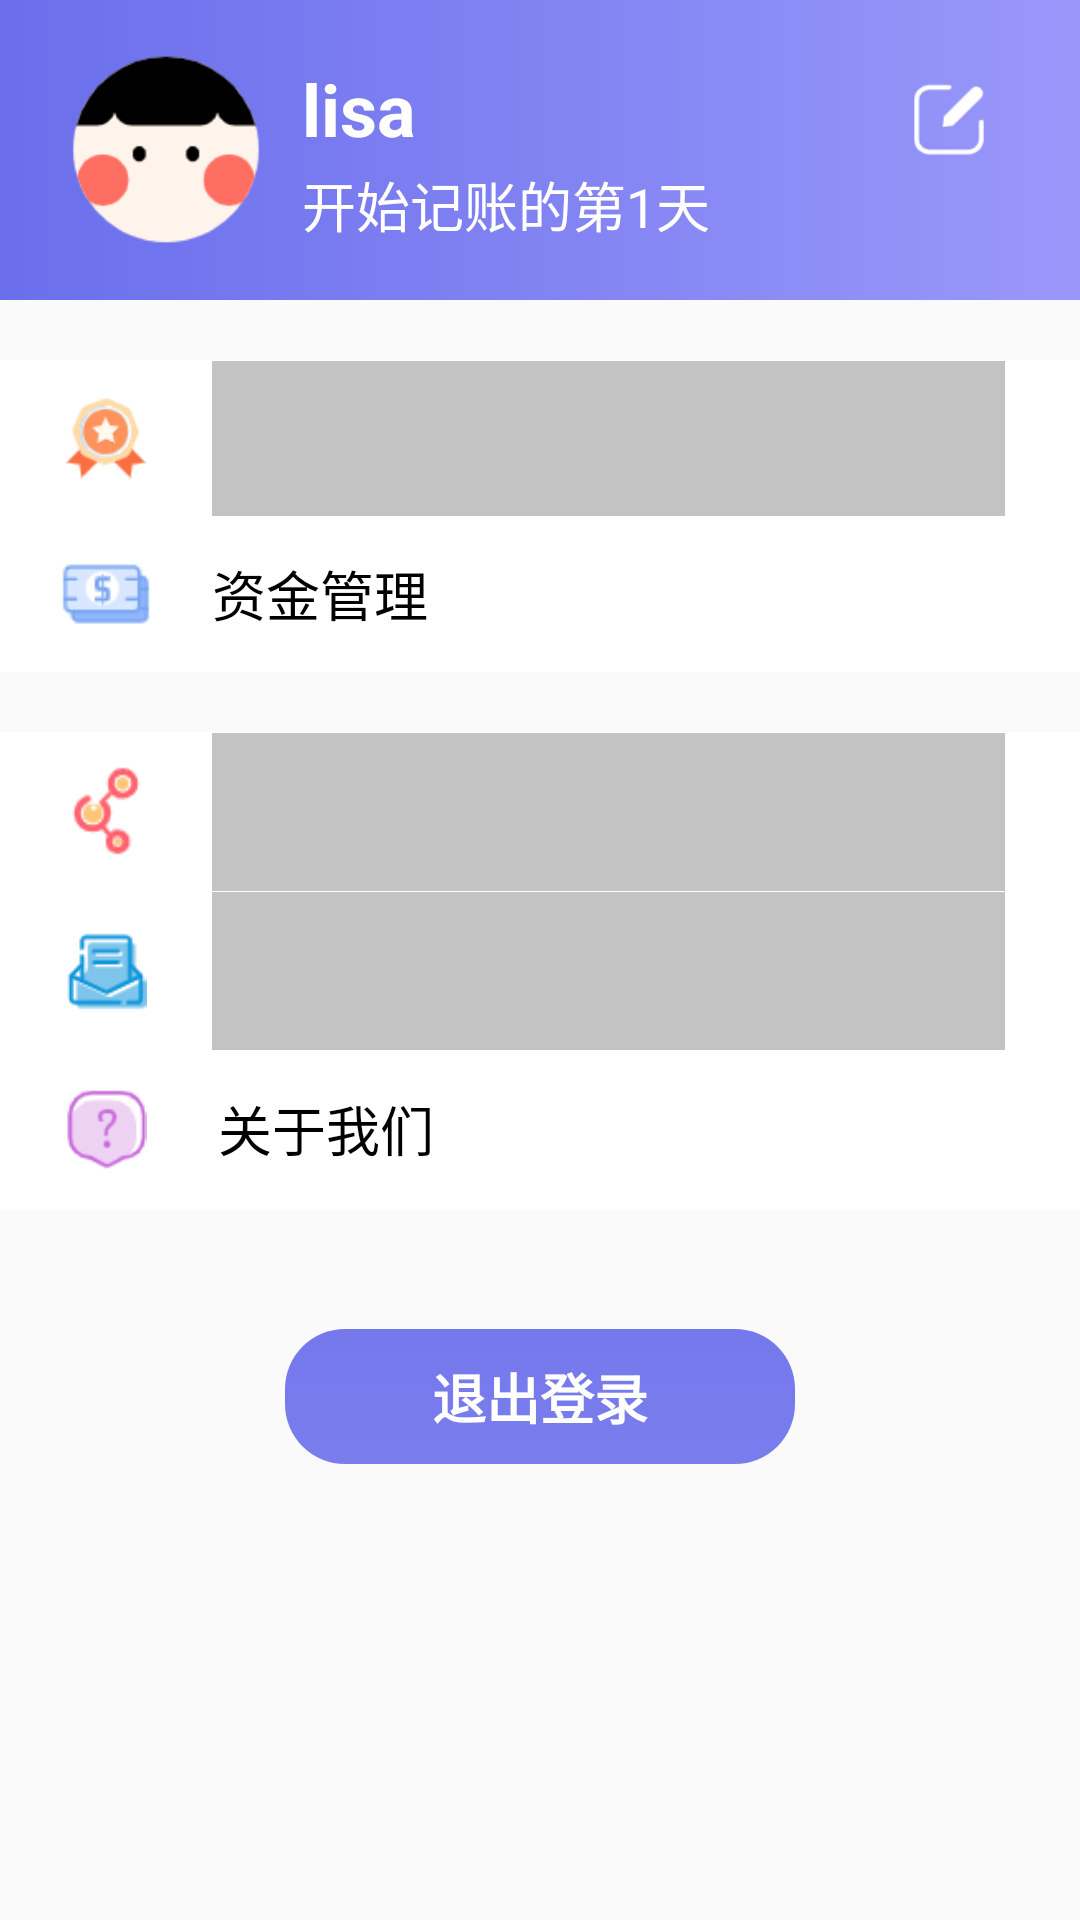

Icons on this 1080x1920 Android screen, each with its box as detection(x1, y1, x2, y2):
about: detection(67, 1090, 147, 1169)
badge: detection(66, 398, 146, 479)
edit: detection(914, 84, 984, 155)
feedback: detection(67, 933, 147, 1009)
head: detection(73, 56, 259, 243)
money: detection(63, 564, 149, 624)
share: detection(73, 767, 139, 855)
